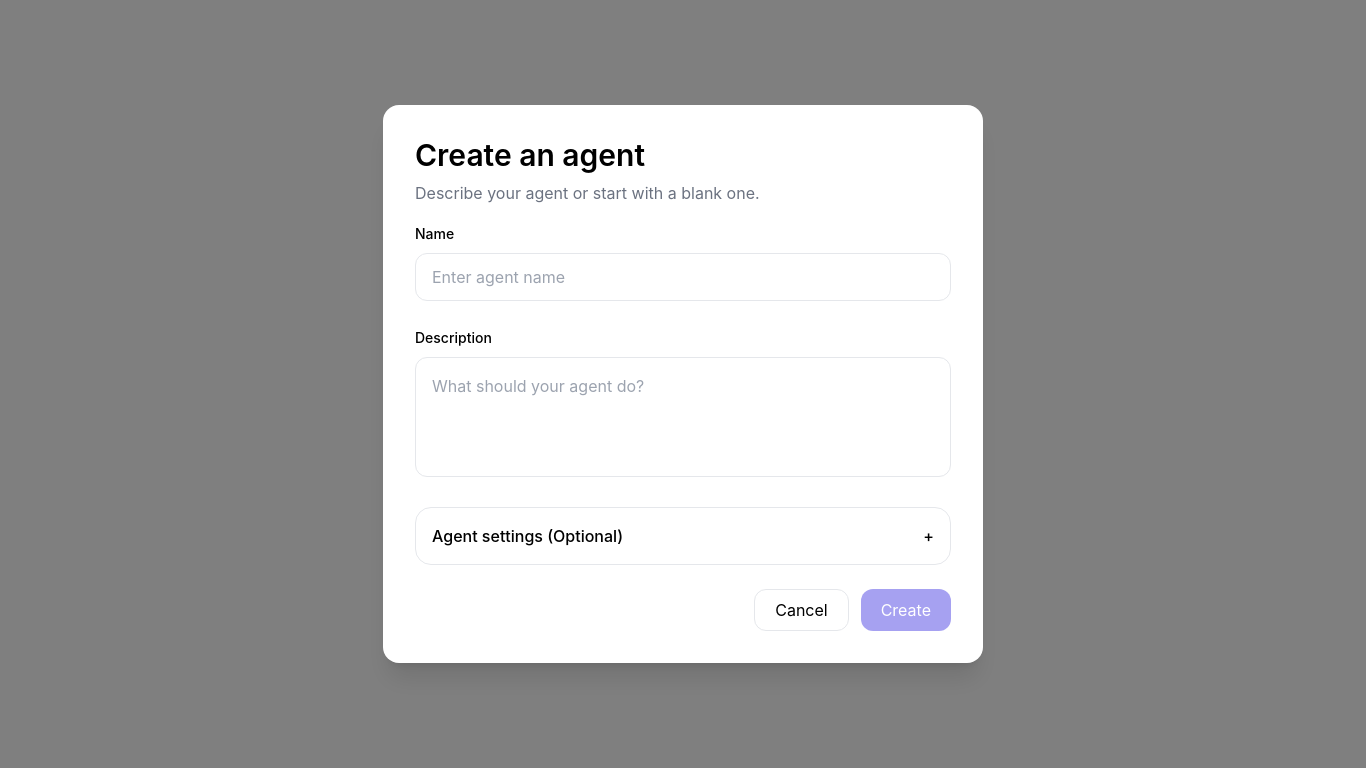
it: CreateAgentModal › opens settings section
Click the button "Agent settings (Optional) +".
click(528, 536)  # box [416,508,950,564]
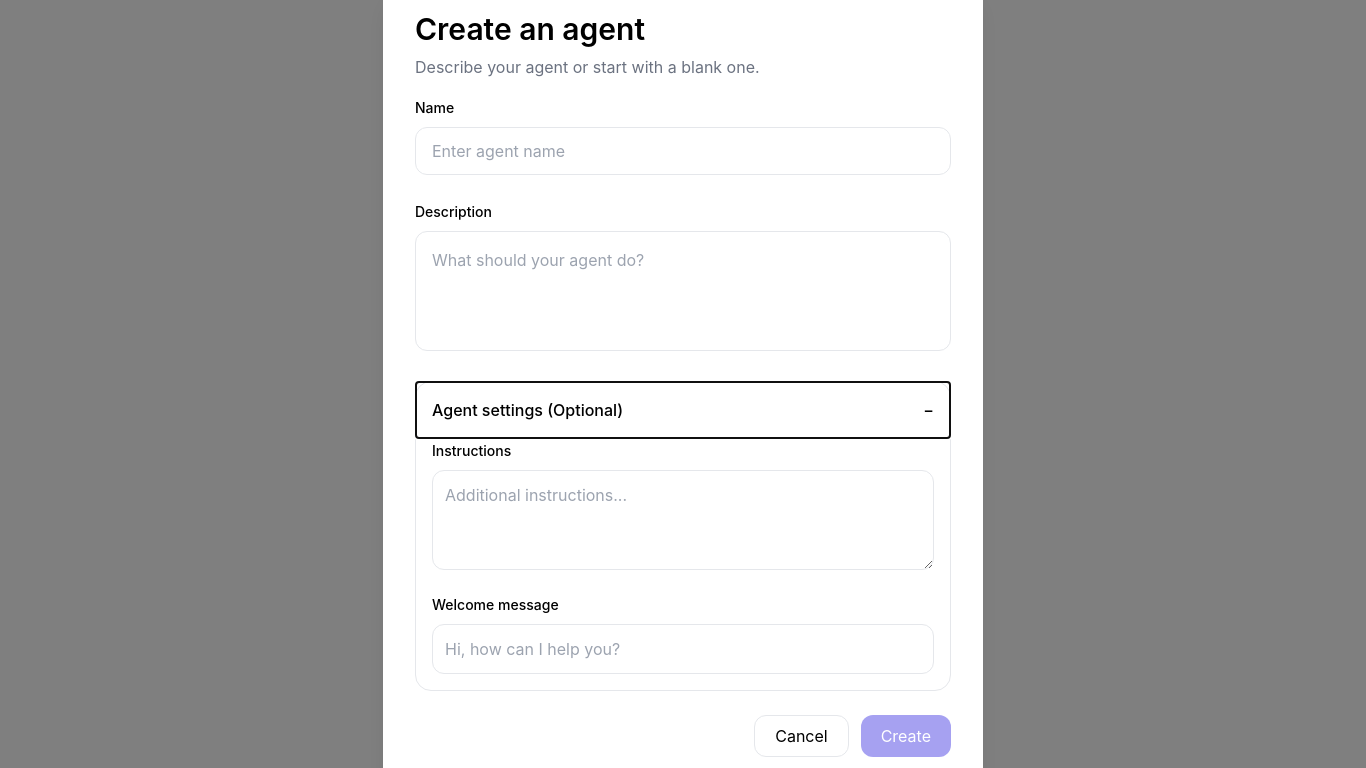
Check: the text box with placeholder "Additional instructions..." is shown, box [432,470,934,570]
Check: the field with placeholder "Hi, how can I help you?" is shown, box [432,624,934,674]
